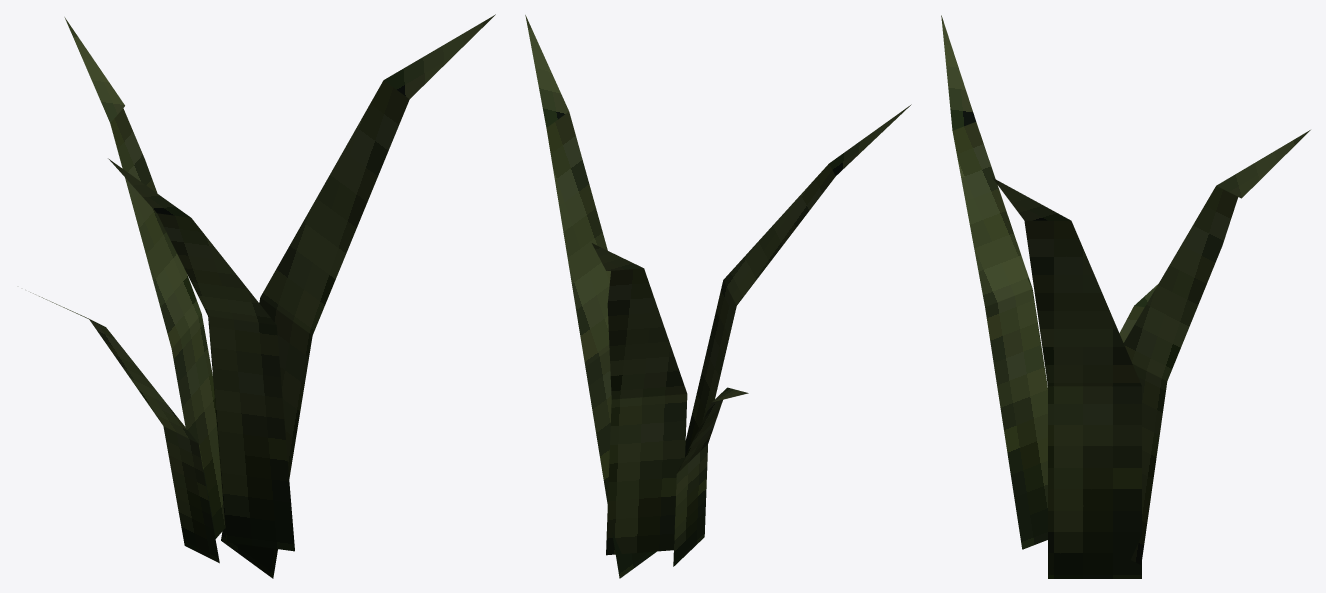
Rendered from grass.fbx.
3 renders of one model, left to right at view 1: azimuth 30°, elevation 25°; view 2: azimuth 150°, elevation 25°; view 3: azimuth 270°, elevation 25°, orthographic. The views are drawn at different scales.
Parts seen in each view (by area): view 1: cuboid_1, cuboid_2, cuboid, cuboid_3; view 2: cuboid, cuboid_2, cuboid_1, cuboid_3; view 3: cuboid_2, cuboid_1, cuboid, cuboid_3.
Part boxes in pixels (left/top/right/bottom): cuboid_1: left=108, top=158, right=294, bottom=551; cuboid_2: left=221, top=14, right=495, bottom=578; cuboid: left=64, top=17, right=225, bottom=538; cuboid_3: left=30, top=292, right=219, bottom=563; cuboid: left=592, top=243, right=687, bottom=555; cuboid_2: left=525, top=15, right=656, bottom=578; cuboid_1: left=685, top=104, right=911, bottom=456; cuboid_3: left=673, top=387, right=748, bottom=566; cuboid_2: left=992, top=177, right=1141, bottom=578; cuboid_1: left=941, top=15, right=1047, bottom=549; cuboid: left=1123, top=130, right=1310, bottom=564; cuboid_3: left=1119, top=284, right=1158, bottom=342.
Size of the model in its own units: 57.48 by 71.25 by 49.26.
Materials: 1 (1 with a texture image).
